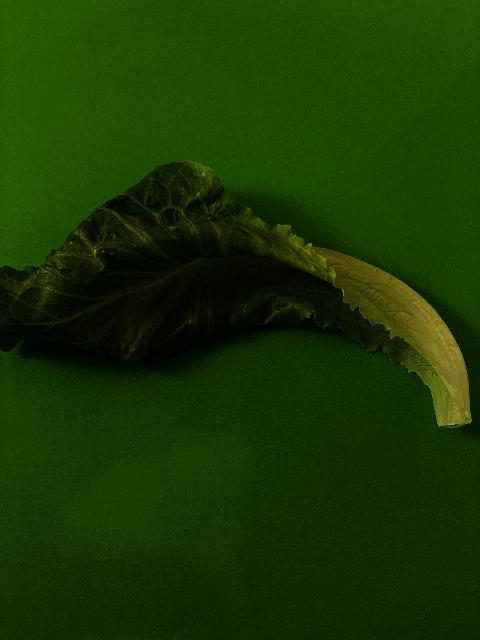lettuce: (0, 155, 474, 431)
